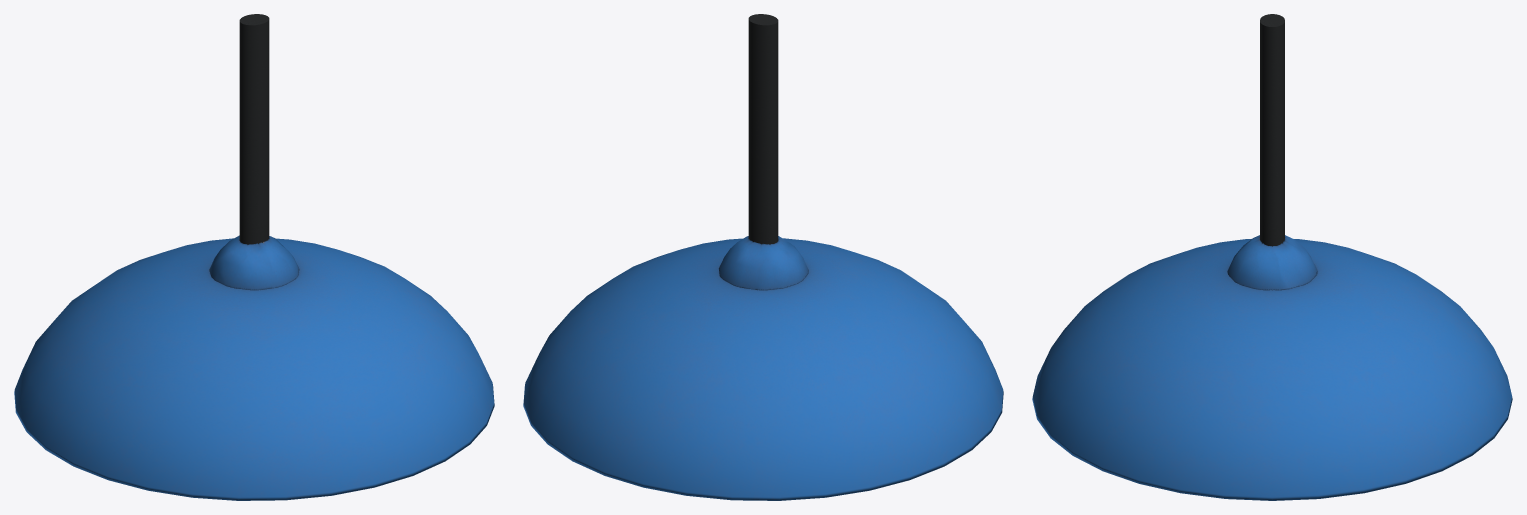
The model's file is SM_Hanglamp_Short.fbx.
The picture shows the model from 3 angles, left to right: view 1: azimuth 30°, elevation 25°; view 2: azimuth 150°, elevation 25°; view 3: azimuth 270°, elevation 25°; orthographic projection.
Parts seen in each view (by area): view 1: SM_HangLamp_Short; view 2: SM_HangLamp_Short; view 3: SM_HangLamp_Short.
Boxes of the visible parts, x1,y1,x2,y2 form: SM_HangLamp_Short: (14,14,494,500); SM_HangLamp_Short: (523,14,1003,500); SM_HangLamp_Short: (1032,14,1512,500).
Size of the model in its own units: 36.86 by 32.08 by 36.86.
